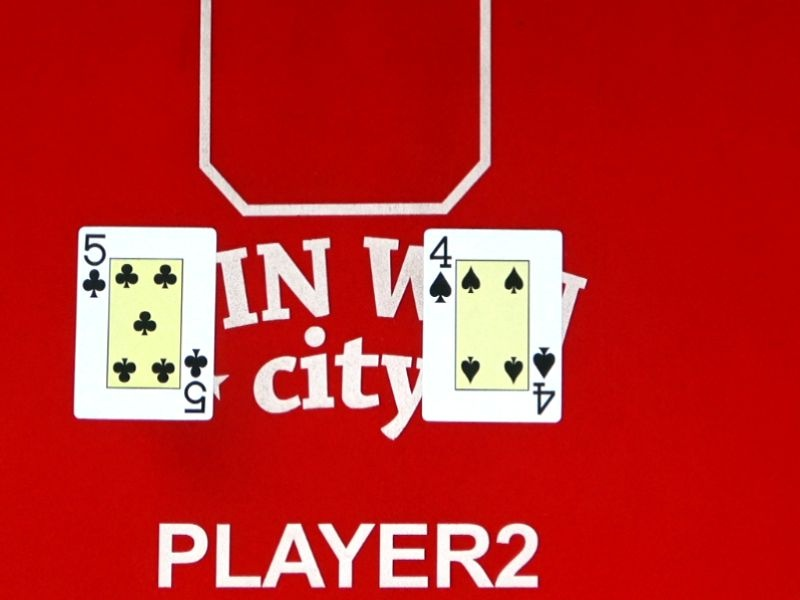4S: (399, 232, 481, 310), (506, 344, 583, 416)
5C: (157, 346, 235, 417), (58, 232, 132, 300)
